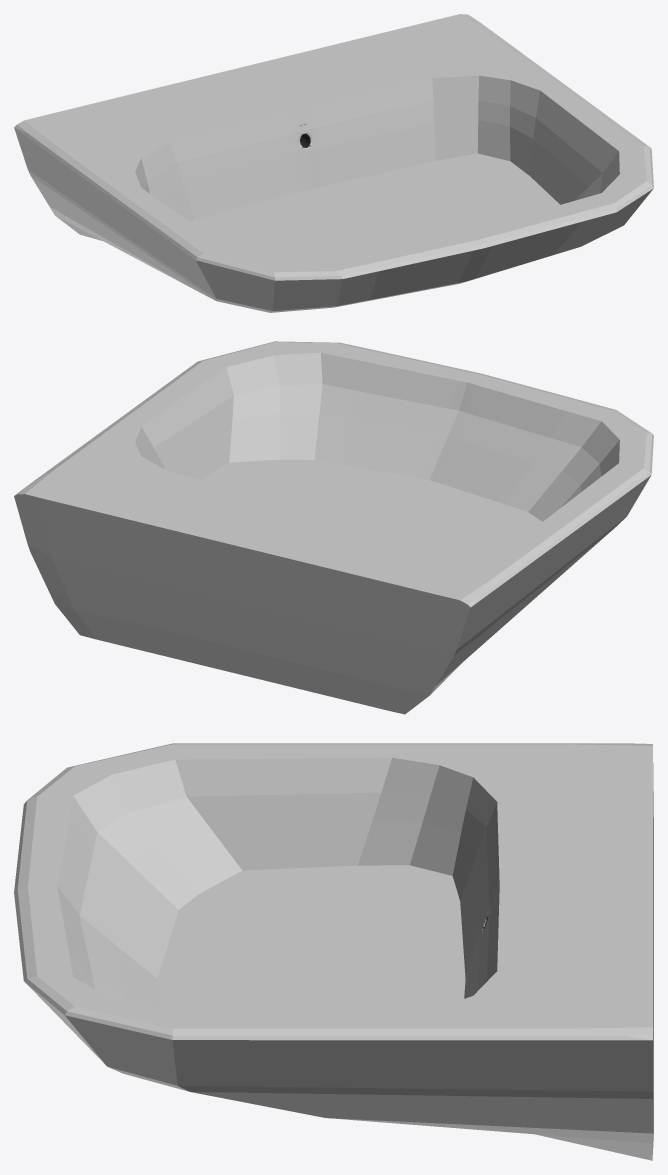
The model's file is Lavabo_New.fbx.
3 views of the same model, one above another, from view 1: azimuth 30°, elevation 25°; view 2: azimuth 150°, elevation 25°; view 3: azimuth 270°, elevation 25° (orthographic). The views are drawn at different scales.
Visible parts, largest first — view 1: Lavello; view 2: Lavello; view 3: Lavello.
Boxes of the visible parts, bbox=[...] form: Lavello: bbox=[14, 14, 653, 312]; Lavello: bbox=[14, 341, 653, 714]; Lavello: bbox=[14, 743, 653, 1160].
Bounding box in the file's own units: 85.05 × 22.81 × 77.97.
